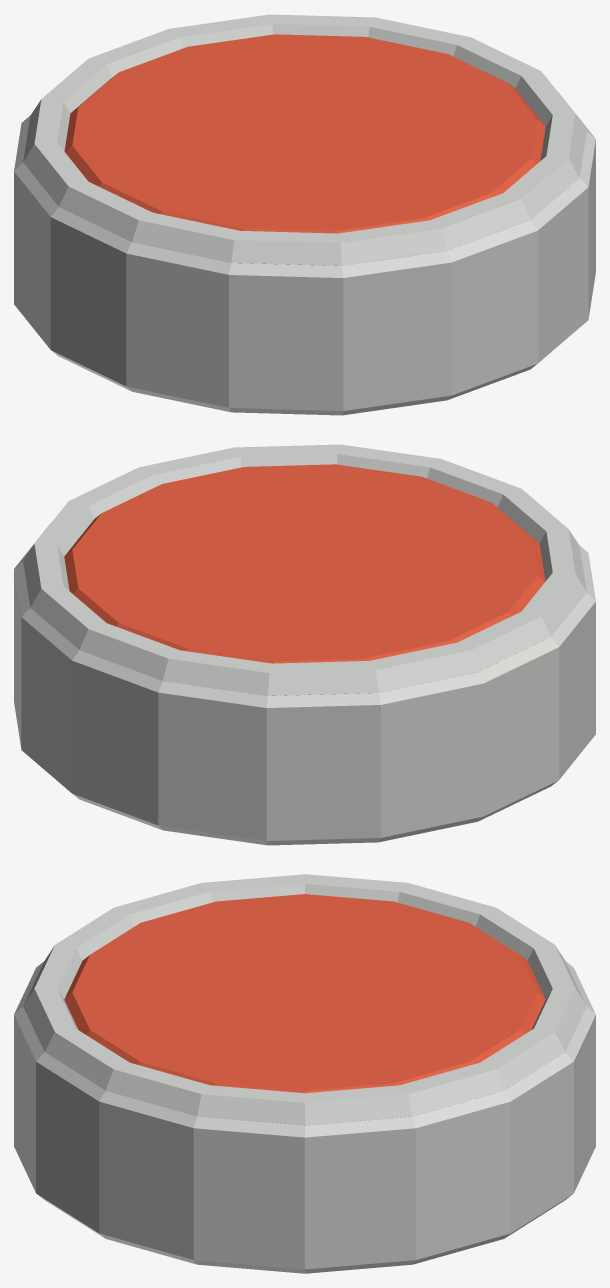
File: farm_tomato_soup.glb
The picture shows the model from 3 angles, top to bottom: view 1: azimuth 30°, elevation 25°; view 2: azimuth 150°, elevation 25°; view 3: azimuth 270°, elevation 25°; orthographic projection.
Visible parts, largest first — view 1: FTF_Dish_FarmTomatoSoup_StaticMesh; view 2: FTF_Dish_FarmTomatoSoup_StaticMesh; view 3: FTF_Dish_FarmTomatoSoup_StaticMesh.
Part boxes in pixels (x1,y1,x2,y2): FTF_Dish_FarmTomatoSoup_StaticMesh: [14, 14, 595, 415]; FTF_Dish_FarmTomatoSoup_StaticMesh: [14, 444, 595, 845]; FTF_Dish_FarmTomatoSoup_StaticMesh: [14, 874, 595, 1273].
Size of the model in its own units: 0.64 by 0.2017 by 0.64.
